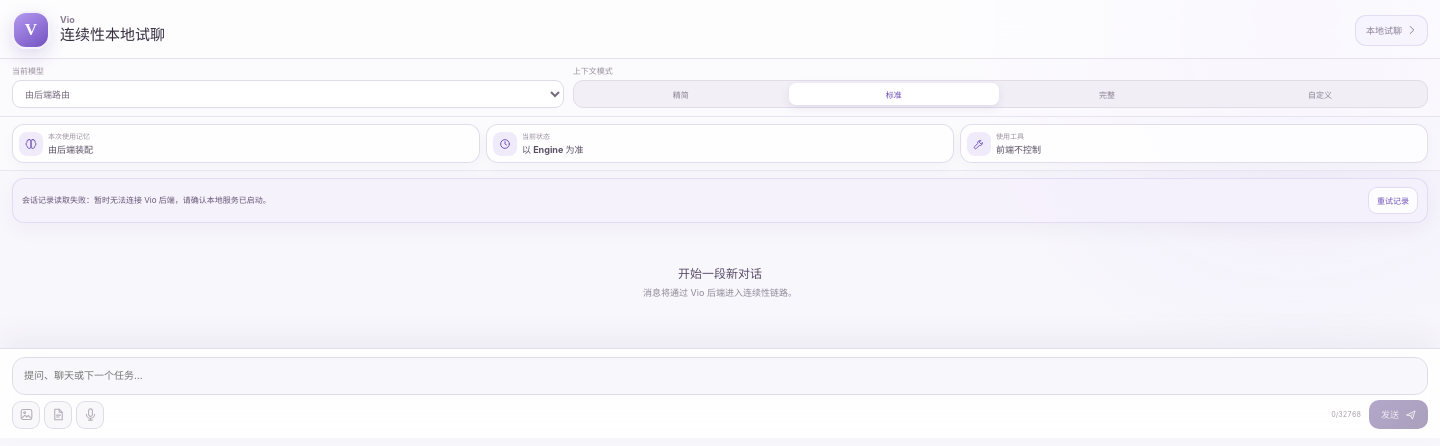
Test: ConversationPage V5 flow › shows loading, empty state, real history and retries a failed history read
This screenshot has width=1440, height=446.
Check: the text "正在读取会话记录…" is shown, box x1=643 y1=266 x2=797 y2=298
Check: the text "会话记录读取失败：暂时无法连接 Vio 后端，请确认本地服务已启动。" is shown, box x1=22 y1=195 x2=271 y2=206
What coordinates should you click on to do the following:
click the button "重试记录"
I would click on:
 (1393, 200)
Its box is x1=1368 y1=187 x2=1418 y2=214.
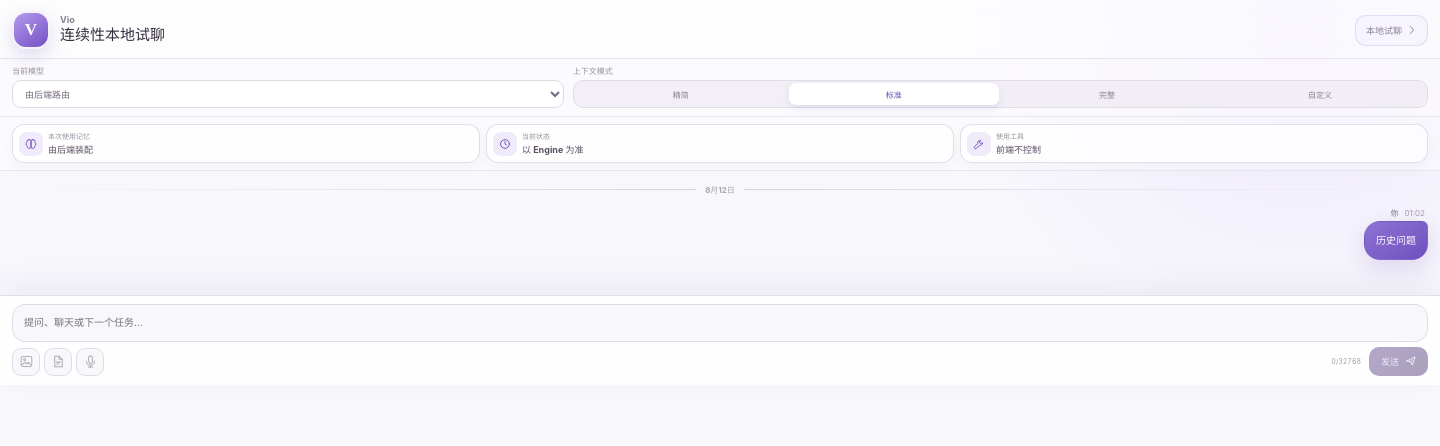
Check: the text "历史问题" is shown, box x1=1364 y1=221 x2=1428 y2=260
